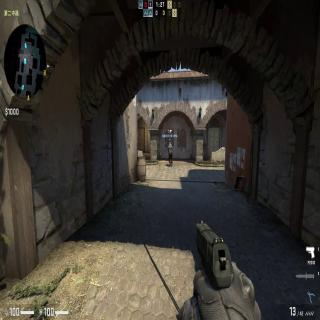CT-Body: (167, 142, 173, 167)
